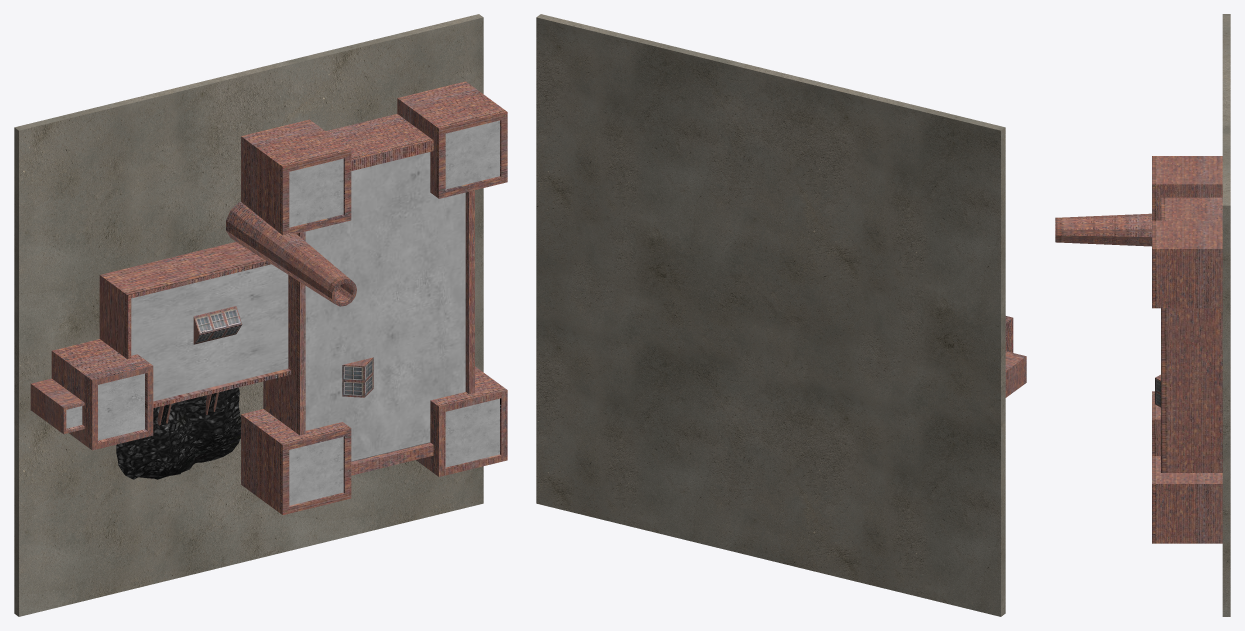
The model's file is coal_power_plant.glb.
The picture shows the model from 3 angles, left to right: view 1: azimuth 30°, elevation 25°; view 2: azimuth 150°, elevation 25°; view 3: azimuth 270°, elevation 25°; orthographic projection. The views are drawn at different scales.
Visible parts, largest first — view 1: Plane, Cube.004, Cube.002; view 2: Plane, Cube.004; view 3: Cube.002, Cube.004, Plane.
Part boxes in pixels (<box>): Plane: <box>14,14,483,616</box>; Cube.004: <box>30,114,474,479</box>; Cube.002: <box>241,81,507,514</box>; Plane: <box>536,14,1005,616</box>; Cube.004: <box>1005,316,1026,397</box>; Cube.002: <box>1152,156,1222,543</box>; Cube.004: <box>1055,197,1222,472</box>; Plane: <box>1222,14,1230,616</box>.
Size of the model in its own units: 162 by 162 by 62.44.
Materials: 2 (2 with a texture image).
